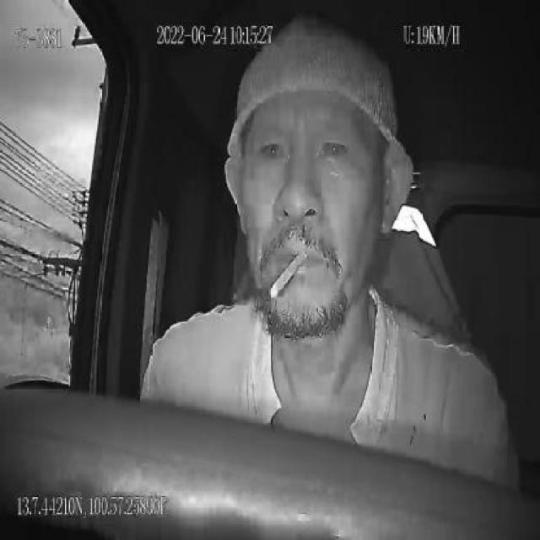smoking: (268, 252, 308, 298)
